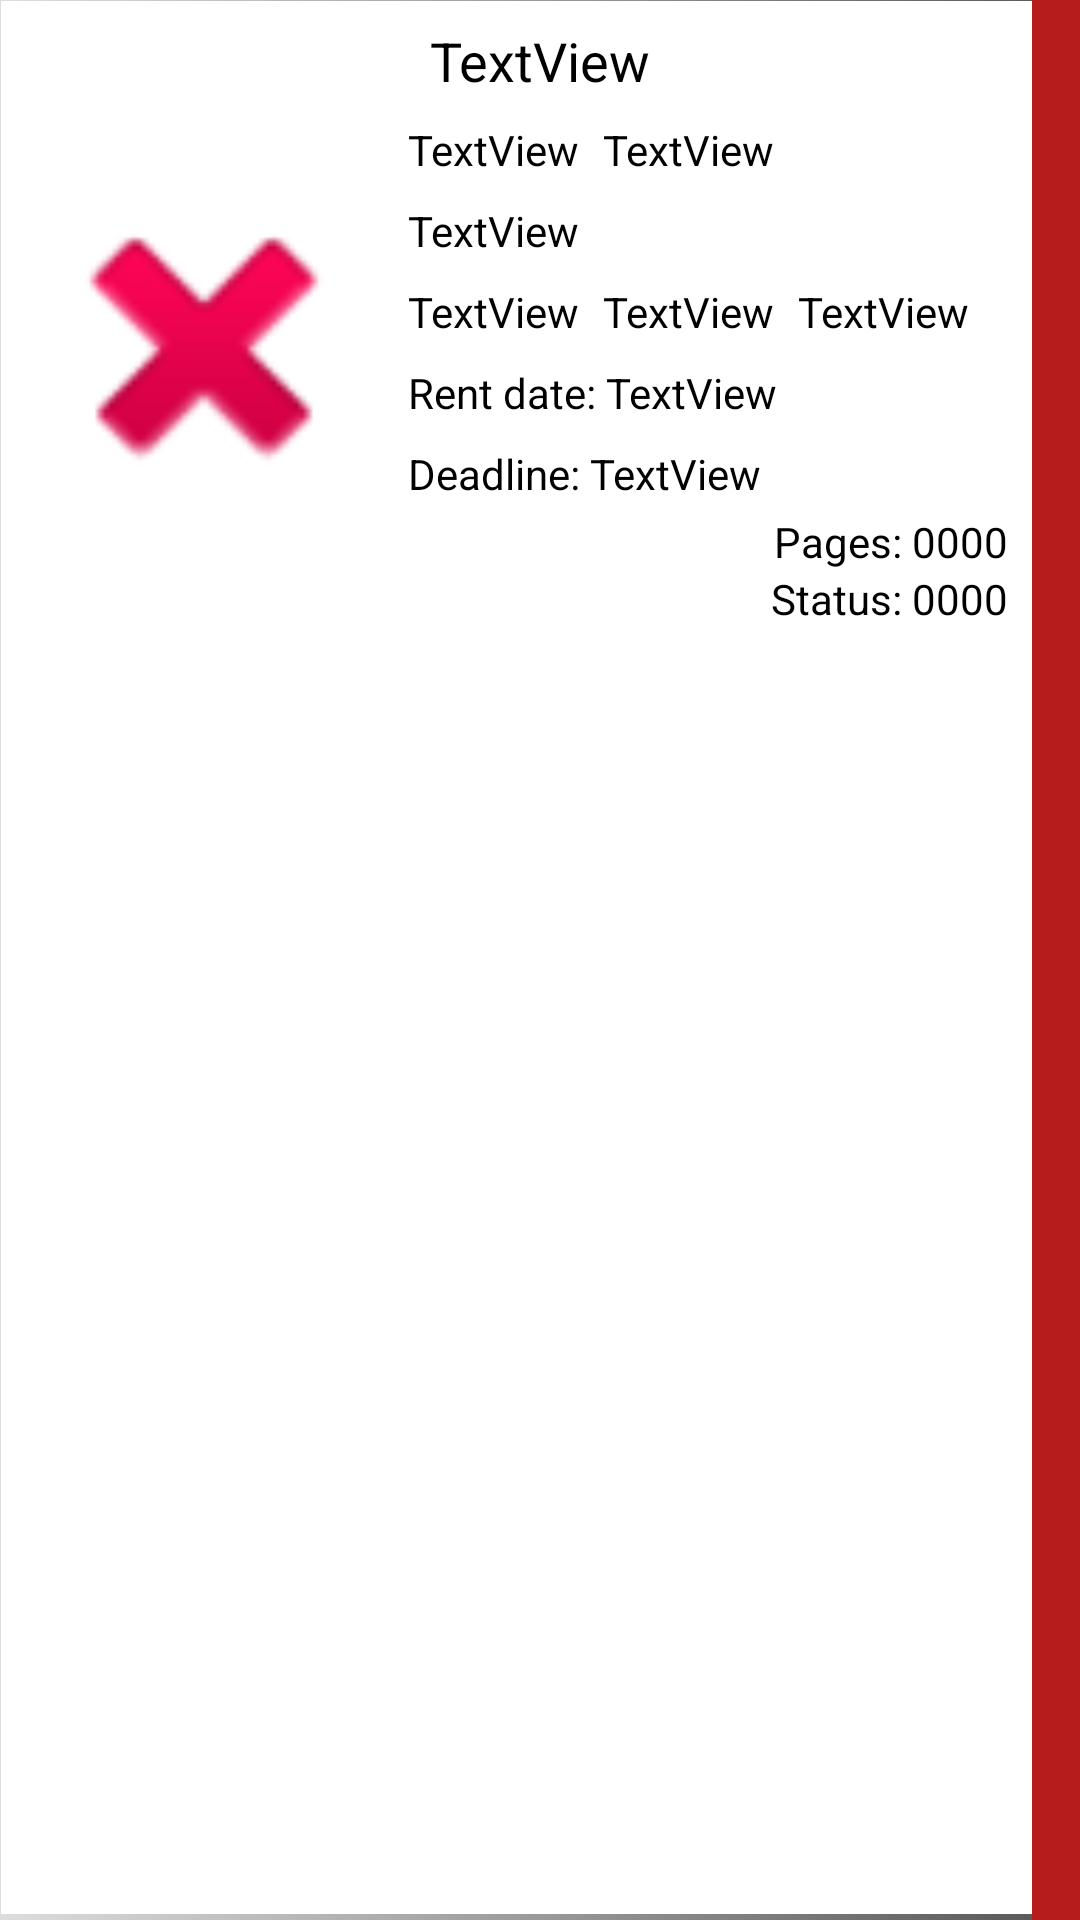

Screen size 1080*1920. Icon name, then its box in pixels as (x1, y1, x2, y2):
delete: (89, 237, 319, 459)
